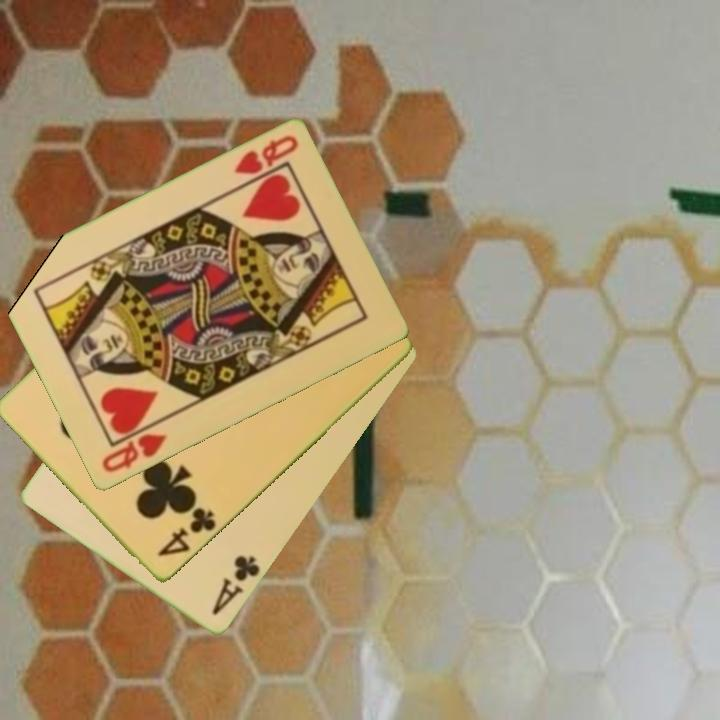4c: (153, 504, 219, 561)
Ac: (208, 552, 263, 619)
Qh: (98, 430, 170, 476), (230, 132, 301, 178)
